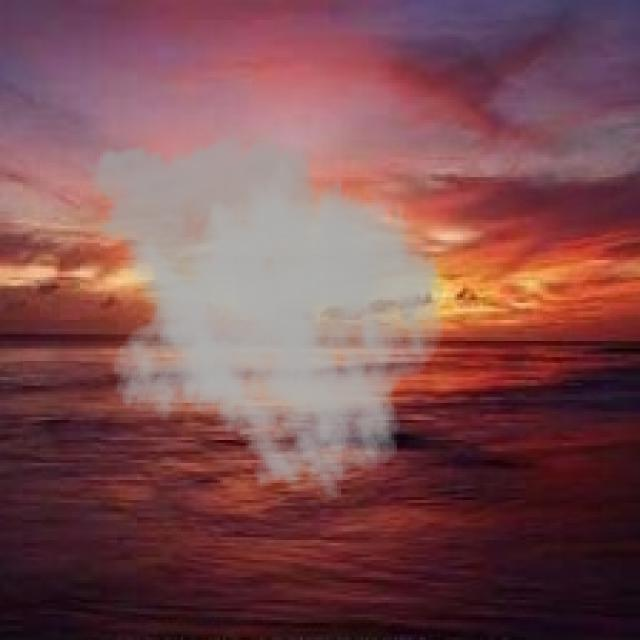Smoke: (74, 123, 446, 503)
